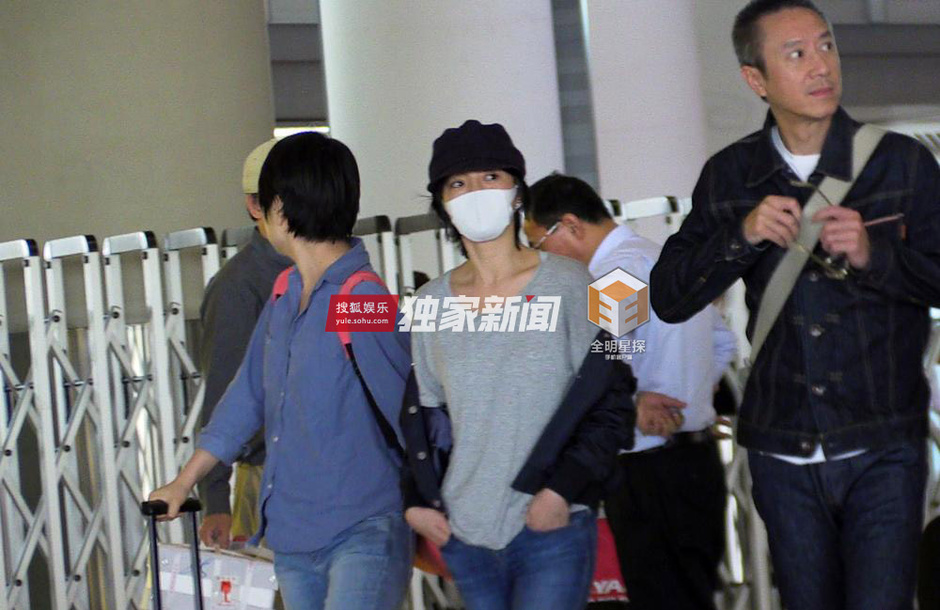face: (753, 9, 850, 118), (527, 216, 584, 269)
face_mask: (447, 162, 511, 242)
